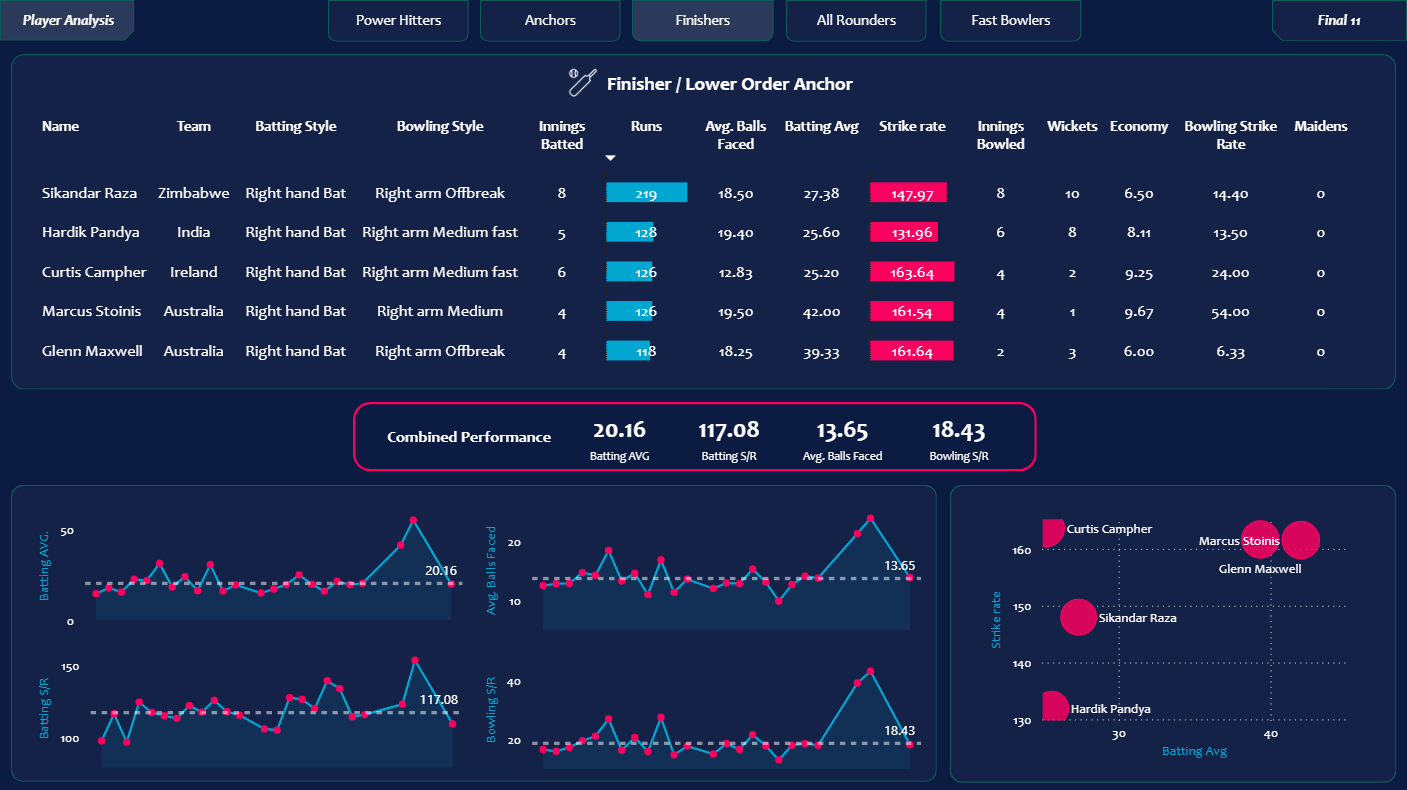

This screenshot's page, from the dashboard's own definition file:
{"tool":"powerbi","page":{"name":"Finisher / Lower Order Anchor","canvas":[1280,720],"ordinal":2},"visuals":[{"type":"tableEx","fields":{"Values":["dim_player.name","dim_player.team","dim_player.Batting Style","dim_player.Bowling Style","Key_Measures.Total Matches","Key_Measures.Total Runs","Key_Measures.Total balls Faced","Key_Measures.Strike Rate","Key_Measures.Bat Avg","Key_Measures.Batting Position","Key_Measures.Boundary %","Key_Measures.Economy"]},"box":[12.6,90.5,1267.4,224.7],"z":0},{"type":"scatterChart","fields":{"Category":["dim_player.name"],"X":["Key_Measures.Bat Avg"],"Series":["dim_player.name"],"Y":["Key_Measures.Strike Rate"]},"box":[42.4,360.6,643.9,357.6],"z":1000},{"type":"card","fields":{"Values":["Key_Measures.Bat Avg"]},"box":[766,384.2,202.3,129.4],"z":2000},{"type":"card","fields":{"Values":["Key_Measures.Strike Rate"]},"box":[1017,384.2,184.8,129.4],"z":3000},{"type":"slicer","fields":{"Values":["dim_match_summary.Stage"]},"box":[1144.8,0,135.2,99.2],"z":4000},{"type":"card","fields":{"Values":["Key_Measures.Bowling Strike Rate"]},"box":[800.1,563.1,168.3,138.1],"z":5000},{"type":"card","fields":{"Values":["Key_Measures.Economy"]},"box":[1000.9,560.9,201.5,139.4],"z":6000}]}

Visuals, with their boxes in screenshot pixels (x1, y1, x2, y2), scaled from the page's 1280x720 canvas onto the 1407x790 screenshot:
tableEx - dim_player.name x dim_player.team: (x1=14, y1=99, x2=1406, y2=346)
scatterChart - dim_player.name x Key_Measures.Bat Avg: (x1=47, y1=396, x2=754, y2=788)
card - Key_Measures.Bat Avg: (x1=842, y1=422, x2=1064, y2=564)
card - Key_Measures.Strike Rate: (x1=1118, y1=422, x2=1321, y2=564)
slicer - dim_match_summary.Stage: (x1=1258, y1=0, x2=1406, y2=109)
card - Key_Measures.Bowling Strike Rate: (x1=879, y1=618, x2=1064, y2=769)
card - Key_Measures.Economy: (x1=1100, y1=615, x2=1322, y2=768)
